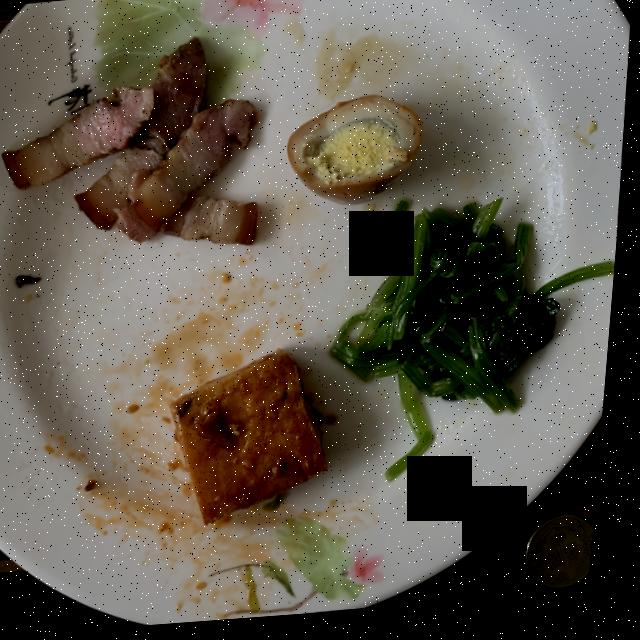coin: (535, 524, 603, 598)
creamy tofu: (177, 353, 335, 528)
grilled pork: (5, 40, 261, 248)
mustard greens: (336, 206, 620, 486)
soy egg: (290, 101, 424, 209)
